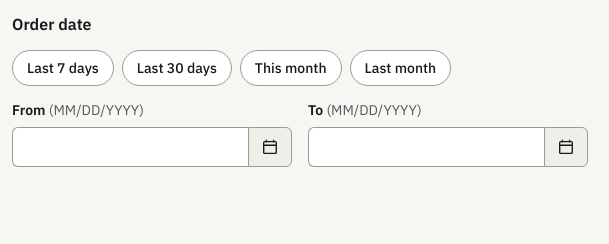
Scenario: DateRangeInput › states the format in the label and echoes the parsed date in words
Type "3-4-26" into the field labelled "From (MM/DD/YYYY)".
click(130, 147); type("3-4-26")  # box x1=12 y1=127 x2=248 y2=167
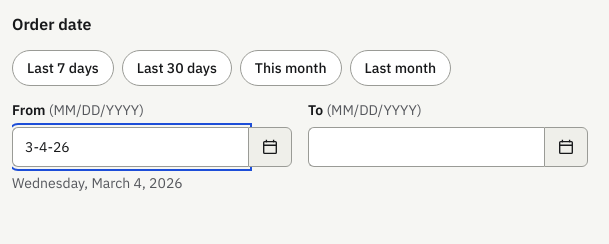
Press Tab
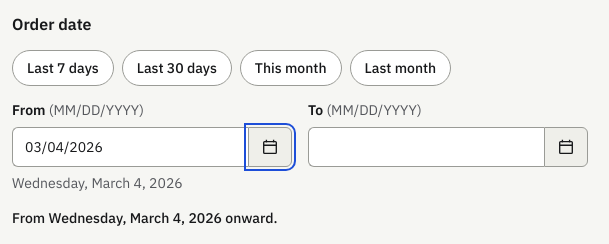
Expected: the field labelled "From (MM/DD/YYYY)" holds "03/04/2026", x1=12 y1=127 x2=248 y2=167
Type "03/10/2026" into the field labelled "To (MM/DD/YYYY)".
click(426, 147); type("03/10/2026")  # box x1=308 y1=127 x2=544 y2=167
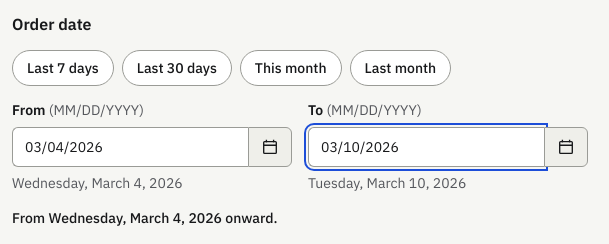
Press Tab
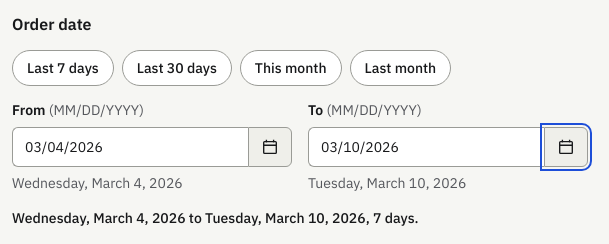
Expected: the message reads "Wednesday, March 4, 2026 to Tuesday, March 10, 2026, 7 days.", x1=12 y1=209 x2=418 y2=227
